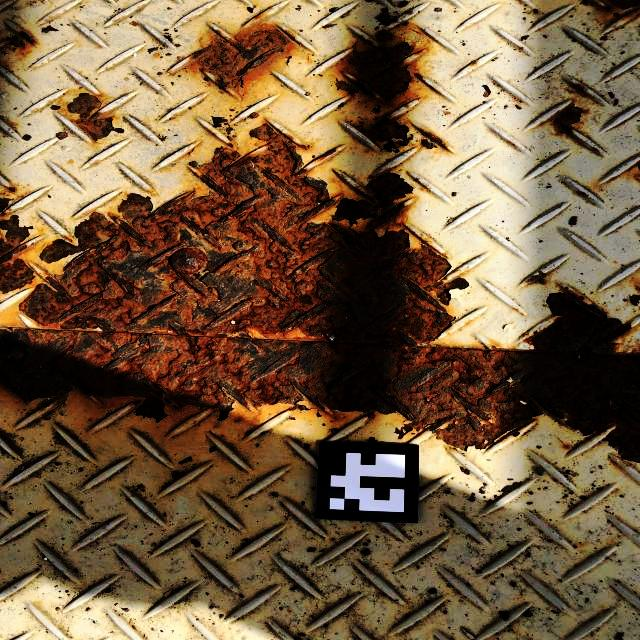Corrosion: (0, 121, 640, 464), (188, 27, 298, 93), (332, 42, 414, 101), (65, 93, 126, 143), (359, 117, 412, 145), (552, 103, 585, 134), (6, 30, 36, 57), (417, 128, 449, 151), (601, 0, 640, 17), (314, 147, 339, 160), (525, 272, 548, 284), (626, 293, 640, 307), (574, 85, 588, 97), (579, 192, 587, 197), (637, 162, 640, 175)
